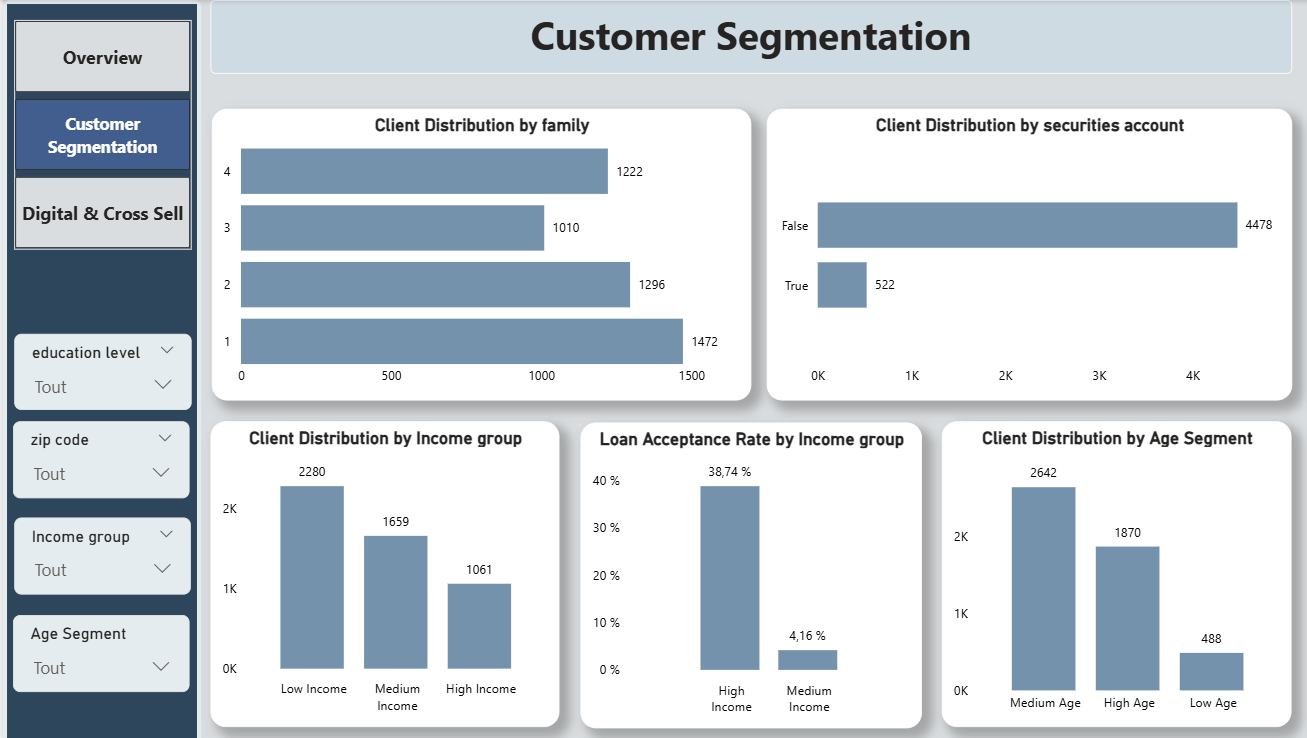

The dashboard page shown, as its layout file describes it:
{"tool":"powerbi","page":{"name":"Customer Segmentation","canvas":[1280,720],"ordinal":1},"visuals":[{"type":"clusteredColumnChart","title":"Client Distribution by Age Segment","fields":{"Category":["dim_customer_profile.Age Segment"],"Y":["_mesures.total clients"]},"box":[906,406.6,337.8,295.6],"z":0},{"type":"clusteredColumnChart","title":"Client Distribution by Income group","fields":{"Y":["_mesures.total clients"],"Category":["fact_loans.Income group"]},"box":[200.3,406.6,336.6,295.6],"z":1000},{"type":"clusteredBarChart","title":"Client Distribution by family","fields":{"Category":["dim_customer_profile.family"],"Y":["_mesures.total clients"]},"box":[201,104.8,520.5,281.2],"z":2000},{"type":"clusteredBarChart","title":"Client Distribution by securities account","fields":{"Category":["dim_customer_profile.securities_account"],"Y":["_mesures.total clients"]},"box":[737.6,104.8,506.9,281.2],"z":3000},{"type":"textbox","box":[200.5,0,1043.7,70.8],"z":4000},{"type":"shape","box":[0,0,191.1,720],"z":5000},{"type":"slicer","fields":{"Values":["dim_education.education_level"]},"box":[10.7,322.1,171.1,73.5],"z":6000},{"type":"slicer","fields":{"Values":["dim_geography.zip_code"]},"box":[9.9,407,170.2,74],"z":7000},{"type":"slicer","fields":{"Values":["dim_customer_profile.Age Segment"]},"box":[9.9,593.3,170.2,74],"z":8000},{"type":"pageNavigator","box":[10.7,18.7,171.1,221.8],"z":9000},{"type":"clusteredColumnChart","title":"Loan Acceptance Rate by Income group","fields":{"Y":["_mesures.Loan Acceptance Rate"],"Category":["fact_loans.Income group"]},"box":[557.4,407.8,329.4,295.6],"z":9001},{"type":"slicer","fields":{"Values":["fact_loans.Income group"]},"box":[11.1,499.5,170.2,74],"z":9002}]}

Visuals, with their boxes in screenshot pixels (x1, y1, x2, y2), scaled from the page's 1280x720 canvas onto the 1307x738 screenshot:
"Client Distribution by Age Segment" clusteredColumnChart: pyautogui.locateOnScreen(925, 417, 1270, 720)
"Client Distribution by Income group" clusteredColumnChart: pyautogui.locateOnScreen(205, 417, 548, 720)
"Client Distribution by family" clusteredBarChart: pyautogui.locateOnScreen(205, 107, 737, 396)
"Client Distribution by securities account" clusteredBarChart: pyautogui.locateOnScreen(753, 107, 1271, 396)
textbox: pyautogui.locateOnScreen(205, 0, 1270, 73)
shape: pyautogui.locateOnScreen(0, 0, 195, 737)
slicer - dim_education.education_level: pyautogui.locateOnScreen(11, 330, 186, 405)
slicer - dim_geography.zip_code: pyautogui.locateOnScreen(10, 417, 184, 493)
slicer - dim_customer_profile.Age Segment: pyautogui.locateOnScreen(10, 608, 184, 684)
pageNavigator: pyautogui.locateOnScreen(11, 19, 186, 247)
"Loan Acceptance Rate by Income group" clusteredColumnChart: pyautogui.locateOnScreen(569, 418, 906, 721)
slicer - fact_loans.Income group: pyautogui.locateOnScreen(11, 512, 185, 588)
